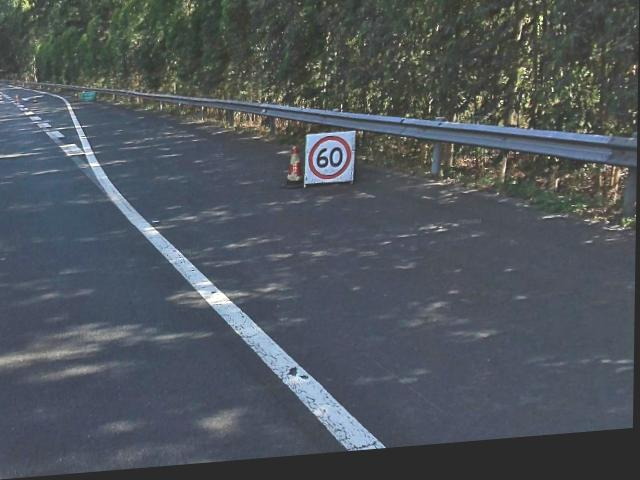limit60: (311, 139, 353, 186)
